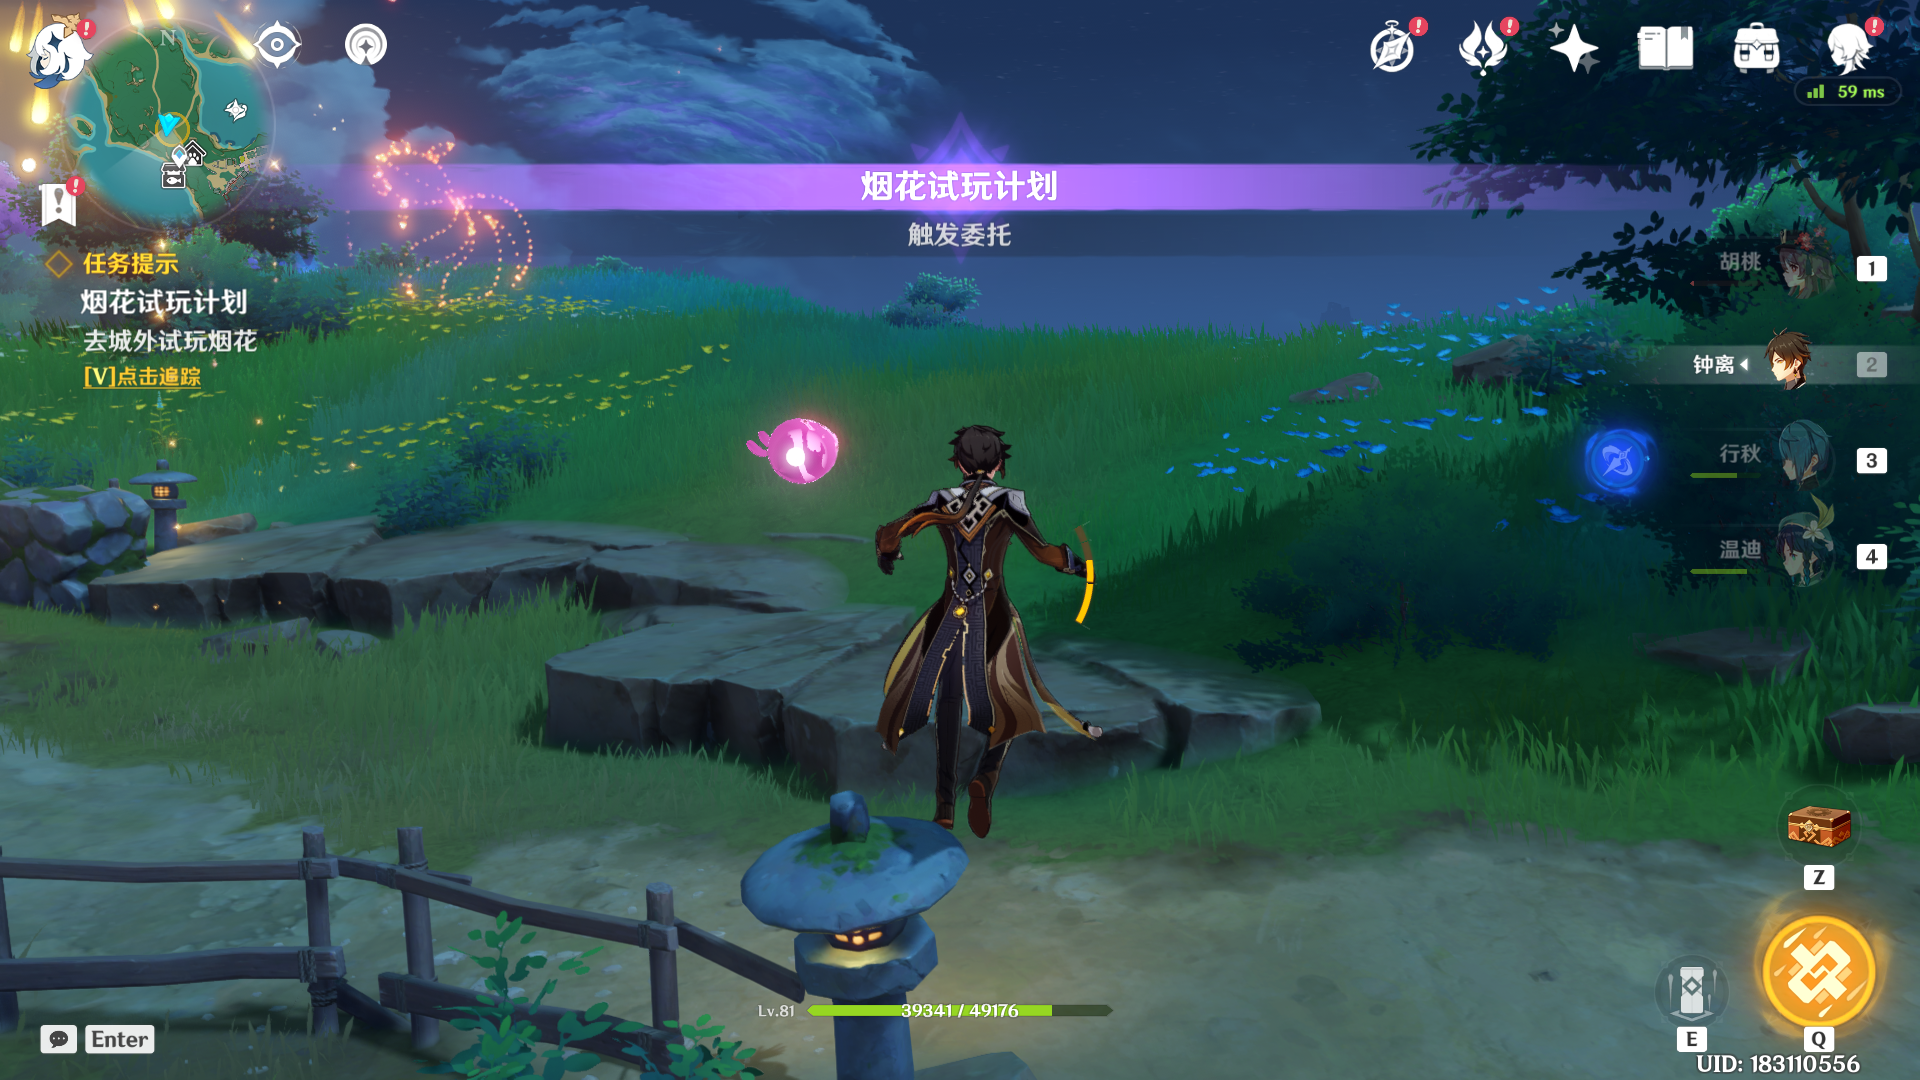character: (832, 386, 1127, 878)
